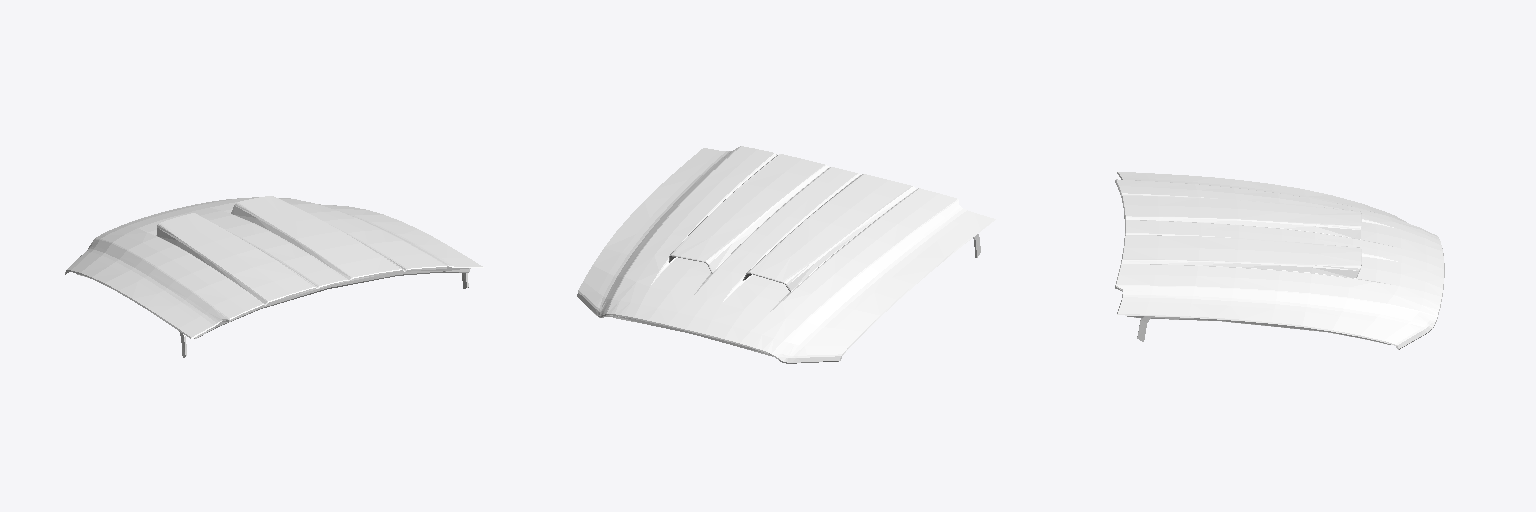
Rendered from cofre.obj.
3 views of the same model, side by side, from view 1: azimuth 30°, elevation 25°; view 2: azimuth 150°, elevation 25°; view 3: azimuth 270°, elevation 25° (orthographic).
Visible parts, largest first — view 1: cofre; view 2: cofre; view 3: cofre.
Boxes of the visible parts, x1,y1,x2,y2 form: cofre: [65, 196, 483, 357]; cofre: [577, 146, 995, 363]; cofre: [1115, 172, 1444, 349].
Size of the model in its own units: 34.26 by 6.75 by 33.42.